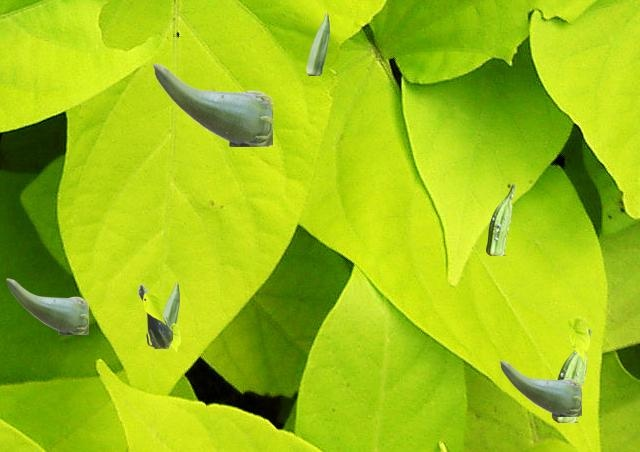okra: (152, 63, 271, 145), (6, 278, 87, 333), (499, 360, 580, 415), (552, 329, 590, 421), (137, 282, 171, 347), (486, 184, 514, 254), (306, 13, 328, 74), (163, 282, 178, 323)
